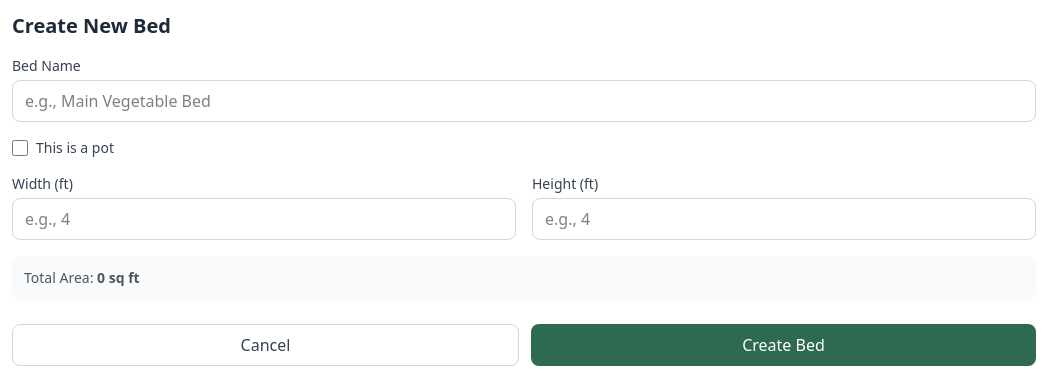
Test: BedForm › rendering - pot mode › renders pot form when checkbox is checked
Click the checkbox labelled "This is a pot" at {"x": 20, "y": 148}, box [12,140,28,156]
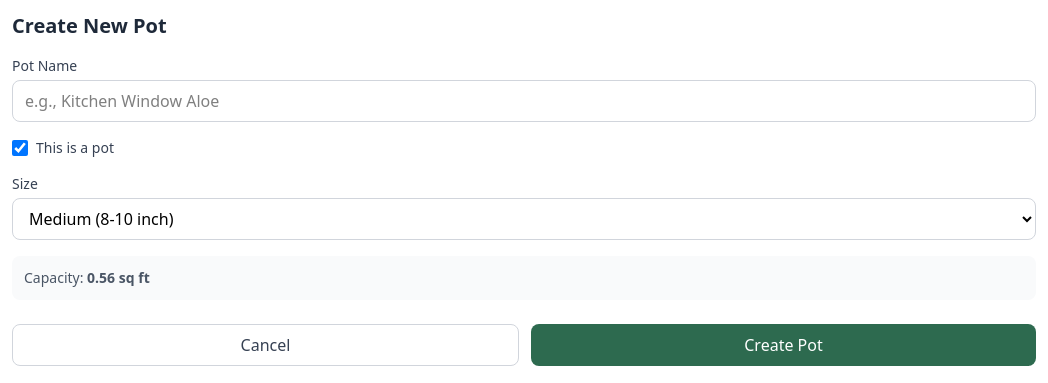
Check: the heading "Create New Pot" is shown, box [12,12,167,39]
Check: the dropdown labelled "Size" is shown, box [12,198,1036,240]
Check: the label labelled "Width (ft)" is gone
